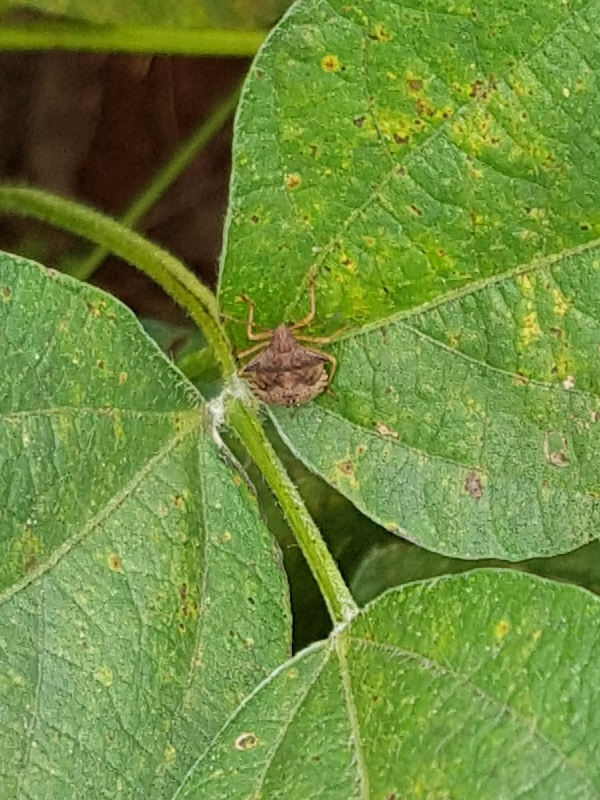Euschistus_heros_ninfa: (210, 281, 347, 426)
